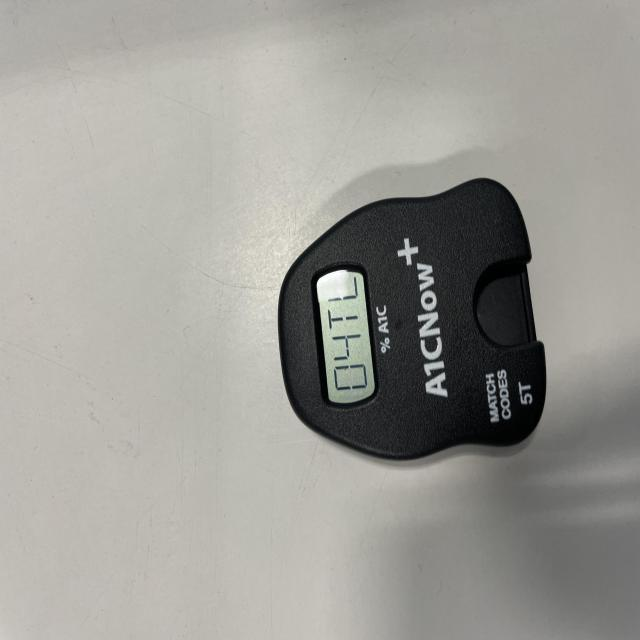hba1c: (277, 178, 547, 464)
